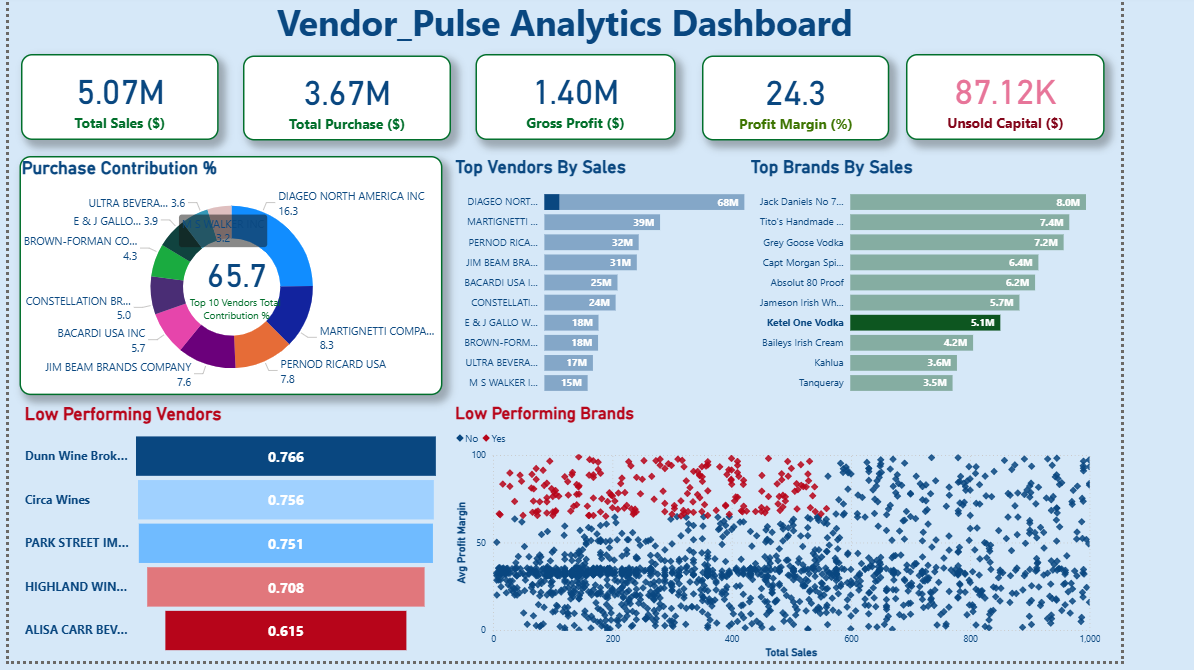

This screenshot's page, from the dashboard's own definition file:
{"tool":"powerbi","page":{"name":"Page 1","canvas":[1500,900],"ordinal":0},"visuals":[{"type":"card","fields":{"Values":["Sum(vendor_sales_summary.TotalPurchaseDollars)"]},"box":[315.8,82.4,280.9,114.6],"z":0},{"type":"card","fields":{"Values":["Sum(vendor_sales_summary.TotalSalesDollars)"]},"box":[16.8,81,266.9,116],"z":1000},{"type":"card","fields":{"Values":["Sum(vendor_sales_summary.GrossProfit)"]},"box":[630.2,81,269.7,116],"z":2000},{"type":"card","fields":{"Values":["Avg(vendor_sales_summary.ProfitMargin)"]},"box":[934.8,82.4,252.9,114.6],"z":3000},{"type":"card","fields":{"Values":["Sum(vendor_sales_summary.UnsoldCapital)"]},"box":[1210.1,81,268.3,116],"z":4000},{"type":"textbox","box":[0,0,1500,83],"z":5000},{"type":"donutChart","title":"Purchase Contribution % ","fields":{"Category":["PurchaseContribution.VendorName"],"Y":["Sum(PurchaseContribution.PurchaseContribution%)"]},"box":[14.5,219.4,571,322.6],"z":6000},{"type":"card","fields":{"Values":["Sum(PurchaseContribution.PurchaseContribution%)"]},"box":[211.8,266.7,188.2,233.3],"z":7000},{"type":"barChart","title":"Top Vendors By Sales","fields":{"Category":["vendor_sales_summary.VendorName"],"Y":["Sum(vendor_sales_summary.TotalSalesDollars)"]},"box":[597.3,219.2,447.9,332.9],"z":8000},{"type":"barChart","title":"Top Brands By Sales","fields":{"Category":["vendor_sales_summary.Description"],"Y":["Sum(vendor_sales_summary.TotalSalesDollars)"]},"box":[995.9,219.2,504.1,332.9],"z":9000},{"type":"funnel","title":"Low Performing Vendors","fields":{"Category":["LowTurnoverVendor.VendorName"],"Y":["Avg(LowTurnoverVendor.AvgStockTurnOver)"]},"box":[16.1,551.6,569.4,348.4],"z":10000},{"type":"scatterChart","title":"Low Performing Brands","fields":{"X":["Sum(BrandPerformance.TotalSales)"],"Y":["Sum(BrandPerformance.AvgProfitMargin)"],"Series":["BrandPerformance.TargetBrand"],"Category":["BrandPerformance.Description"]},"box":[596.8,551.6,880.6,348.4],"z":11000}]}

Visuals, with their boxes on the page's 1500x900 design canvas (x1, y1, x2, y2). These are canvas units, not pixel positions in the 1194x670 screenshot, which may show the page scaled, cropped or inside an application window:
card - Sum(vendor_sales_summary.TotalPurchaseDollars): region(316, 82, 597, 197)
card - Sum(vendor_sales_summary.TotalSalesDollars): region(17, 81, 284, 197)
card - Sum(vendor_sales_summary.GrossProfit): region(630, 81, 900, 197)
card - Avg(vendor_sales_summary.ProfitMargin): region(935, 82, 1188, 197)
card - Sum(vendor_sales_summary.UnsoldCapital): region(1210, 81, 1478, 197)
textbox: region(0, 0, 1500, 83)
"Purchase Contribution % " donutChart: region(14, 219, 586, 542)
card - Sum(PurchaseContribution.PurchaseContribution%): region(212, 267, 400, 500)
"Top Vendors By Sales" barChart: region(597, 219, 1045, 552)
"Top Brands By Sales" barChart: region(996, 219, 1500, 552)
"Low Performing Vendors" funnel: region(16, 552, 586, 900)
"Low Performing Brands" scatterChart: region(597, 552, 1477, 900)
